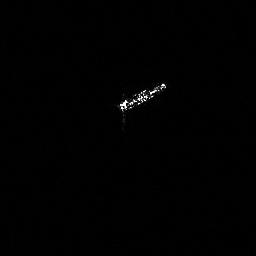ship: (114, 78, 169, 119)
